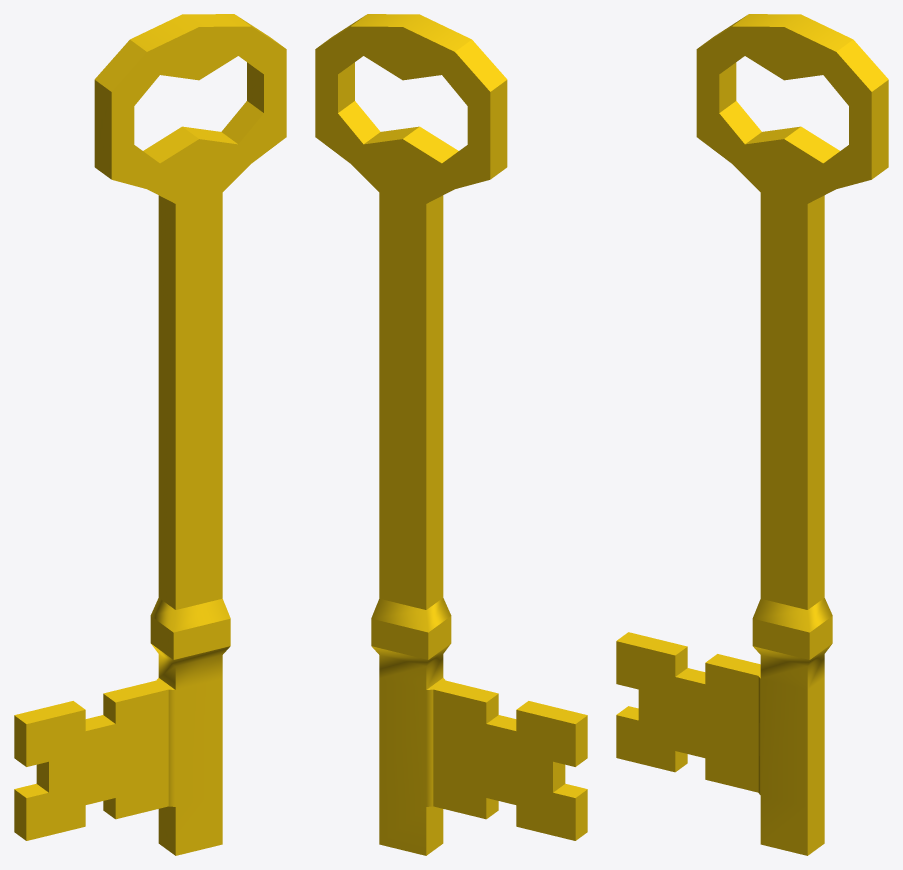
Rendered from key.obj.
The picture shows the model from 3 angles, left to right: view 1: azimuth 30°, elevation 25°; view 2: azimuth 150°, elevation 25°; view 3: azimuth 330°, elevation 25°; orthographic projection.
Parts seen in each view (by area): view 1: pCube21; view 2: pCube21; view 3: pCube21.
Part boxes in pixels (x1=…): pCube21: x1=14, y1=14, x2=286, y2=855; pCube21: x1=315, y1=14, x2=587, y2=855; pCube21: x1=616, y1=14, x2=888, y2=855.
Bounding box in the file's own units: 0.3279 × 1 × 0.0506.
